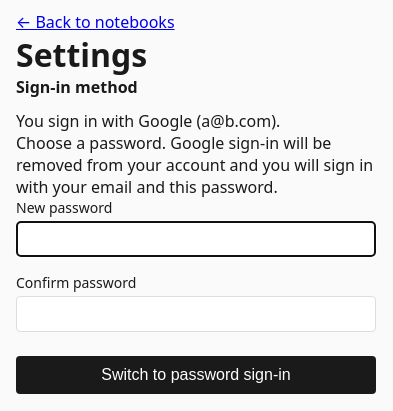
Test case: SettingsPage › switches to password after re-authentication
Type "newsecret1" into the password field labelled "New password".
click(196, 239); type("newsecret1")  # box [16,221,376,257]
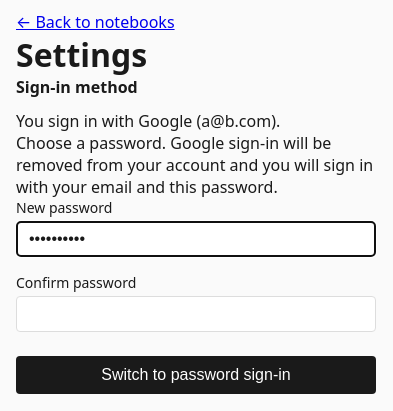
Type "newsecret1" into the password field labelled "Confirm password".
click(196, 314); type("newsecret1")  # box [16,296,376,332]
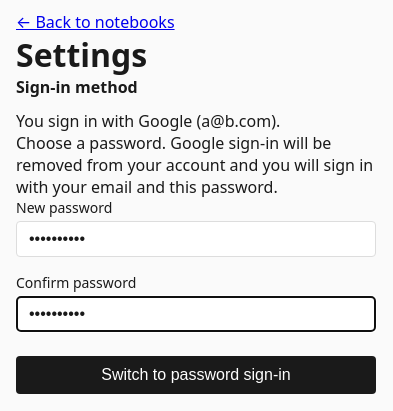
Click the button "Switch to password sign-in".
click(196, 375)  # box [16,356,376,394]
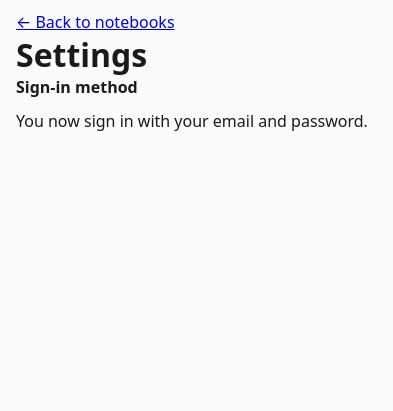
Expected: the text "You now sign in with your email and password." is shown, [16,110,368,132]
